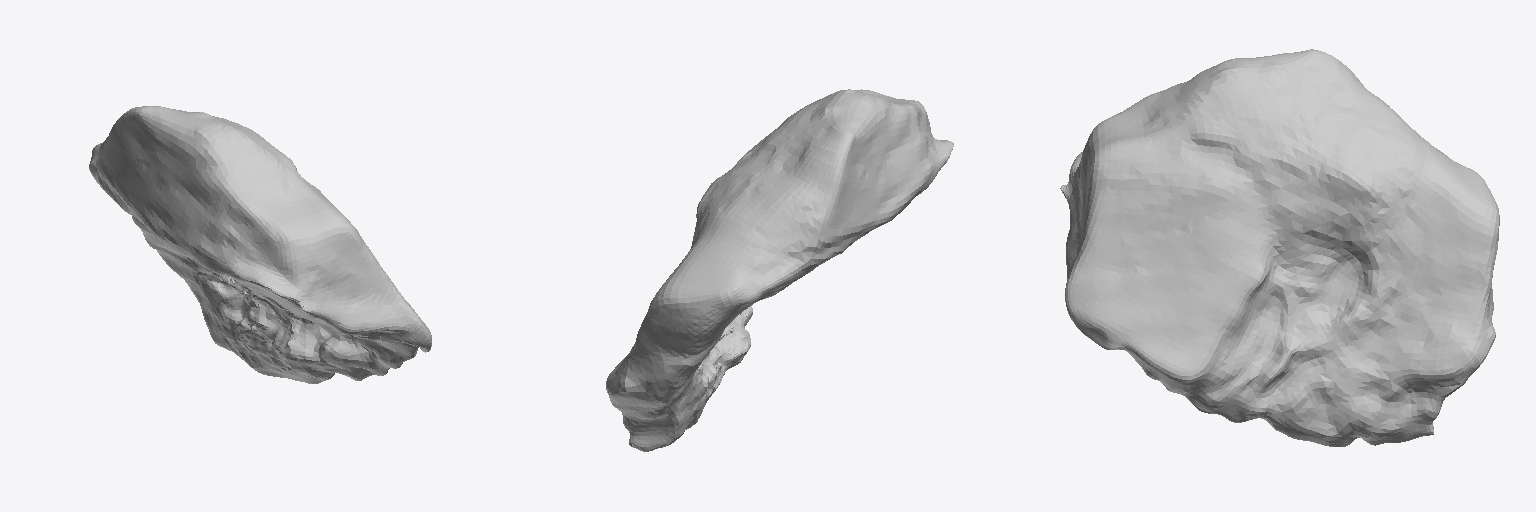
Rendered from 5dcb4800501e_Moss_growing_on_a_r.obj.
The picture shows the model from 3 angles: view 1: azimuth 30°, elevation 25°; view 2: azimuth 150°, elevation 25°; view 3: azimuth 270°, elevation 25°; orthographic projection.
Parts seen in each view (by area): view 1: mesh; view 2: mesh; view 3: mesh.
Boxes of the visible parts, <box> form: mesh: <box>89,106,431,383</box>; mesh: <box>606,89,953,451</box>; mesh: <box>1060,49,1499,446</box>.
Size of the model in its own units: 0.5883 by 0.8043 by 0.9945.